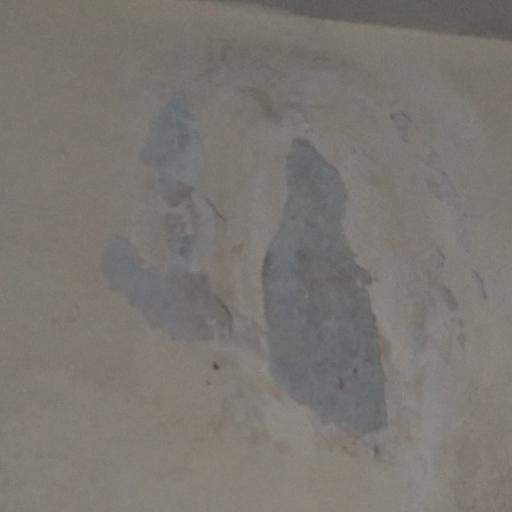peeling: (81, 91, 259, 379), (263, 114, 377, 429)
